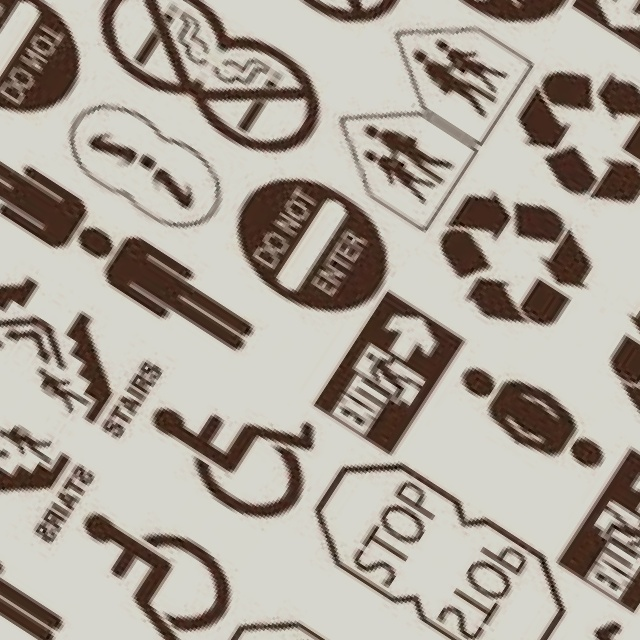ISA: (127, 347, 337, 540), (40, 481, 250, 640), (527, 606, 640, 640)
